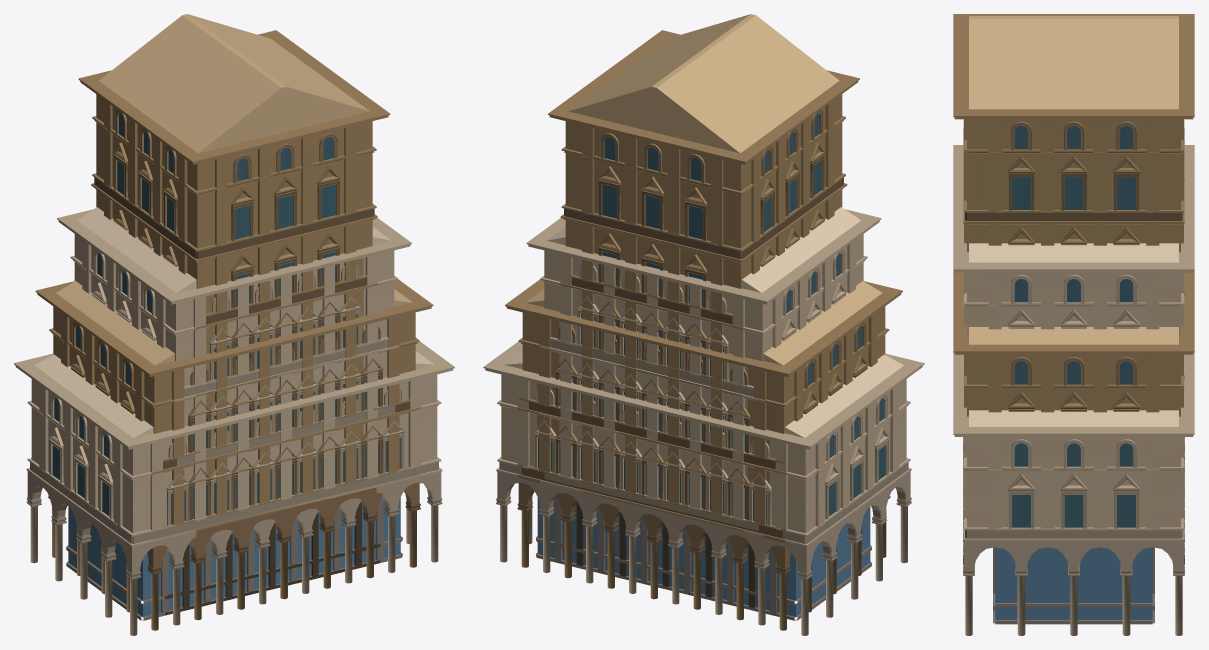
The model's file is arched-buildings.glb.
3 renders of one model, left to right at view 1: azimuth 30°, elevation 25°; view 2: azimuth 150°, elevation 25°; view 3: azimuth 270°, elevation 25°, orthographic. The views are drawn at different scales.
Visible parts, largest first — view 1: arched-building-01, arched-building-04, arched-building-02, arched-building-03; view 2: arched-building-01, arched-building-04, arched-building-02, arched-building-03; view 3: arched-building-01, arched-building-04, arched-building-02, arched-building-03.
Boxes of the visible parts, <box> form: arched-building-01: <box>78,14,390,608</box>; arched-building-04: <box>14,341,454,635</box>; arched-building-02: <box>57,207,411,625</box>; arched-building-03: <box>35,279,433,630</box>; arched-building-01: <box>548,14,859,609</box>; arched-building-04: <box>483,341,924,635</box>; arched-building-02: <box>526,207,881,624</box>; arched-building-03: <box>505,279,902,630</box>; arched-building-01: <box>953,14,1194,542</box>; arched-building-04: <box>953,352,1194,635</box>; arched-building-02: <box>953,145,1194,553</box>; arched-building-03: <box>953,270,1194,564</box>.
Size of the model in its own units: 15.19 by 22.67 by 9.19.
Materials: 1 (1 with a texture image).
